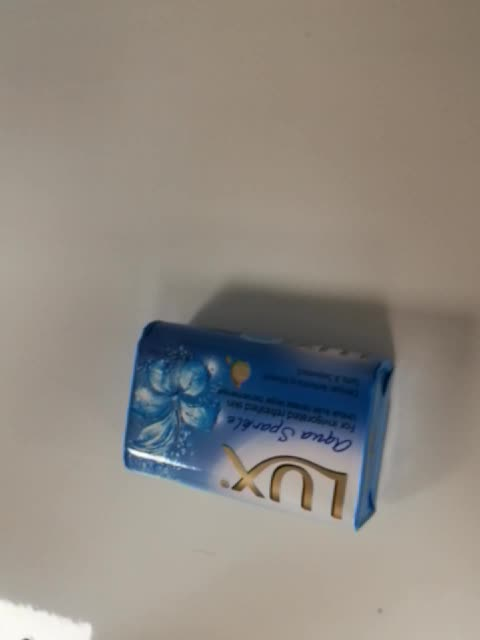soap: (122, 317, 396, 533)
